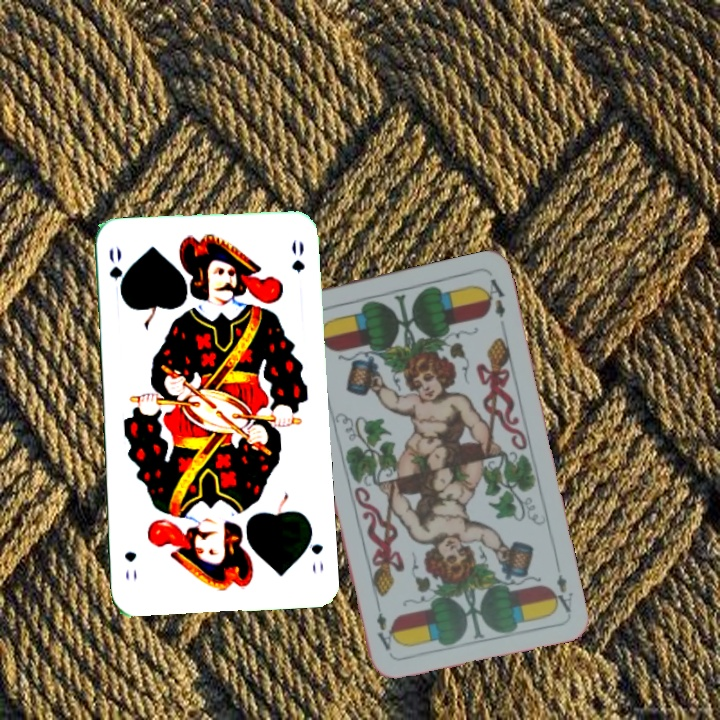EA: (546, 557, 576, 615)
GO: (301, 522, 326, 576), (105, 243, 127, 302)
